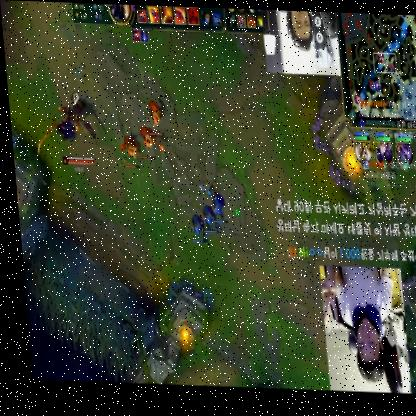donation: (270, 196, 416, 392)
streamer: (274, 8, 323, 49)
